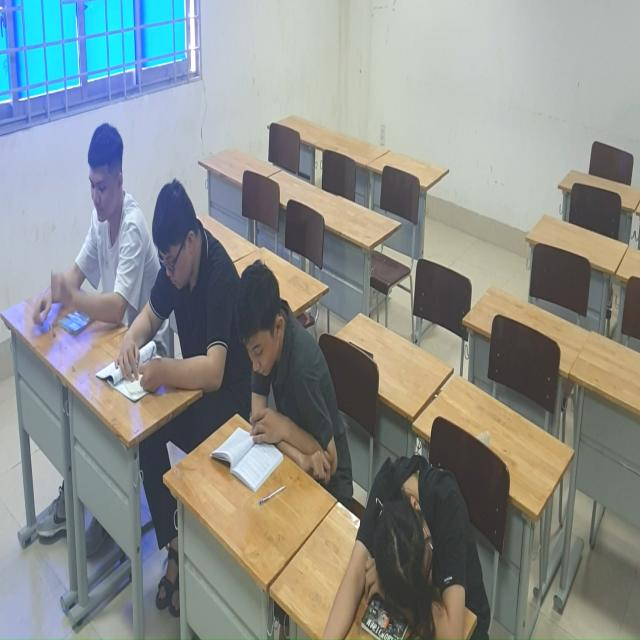read: (208, 258, 341, 499), (96, 184, 225, 404), (29, 122, 148, 339)
sleep: (331, 443, 491, 640)
